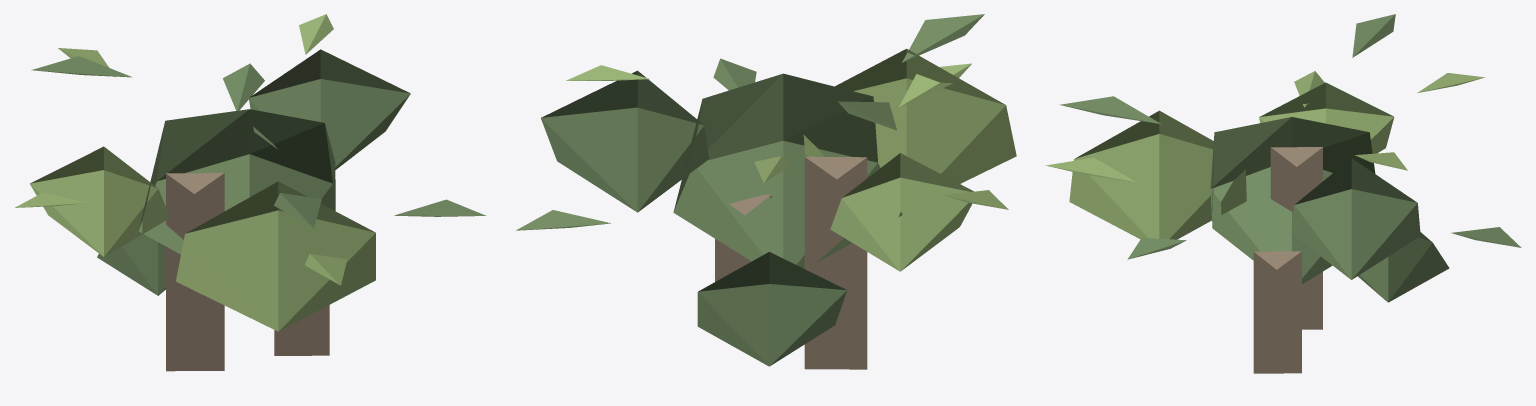
The model's file is nong.da@subadult__summer.glb.
The picture shows the model from 3 angles, left to right: view 1: azimuth 30°, elevation 25°; view 2: azimuth 150°, elevation 25°; view 3: azimuth 270°, elevation 25°; orthographic projection. The views are drawn at different scales.
Parts seen in each view (by area): view 1: nong.da@subadult__summer; view 2: nong.da@subadult__summer; view 3: nong.da@subadult__summer.
Part boxes in pixels (bbox=[...]): nong.da@subadult__summer: bbox=[15, 14, 486, 371]; nong.da@subadult__summer: bbox=[516, 14, 1016, 369]; nong.da@subadult__summer: bbox=[1045, 14, 1521, 373].
Bounding box in the file's own units: 0.7739 × 0.5313 × 0.8313.
